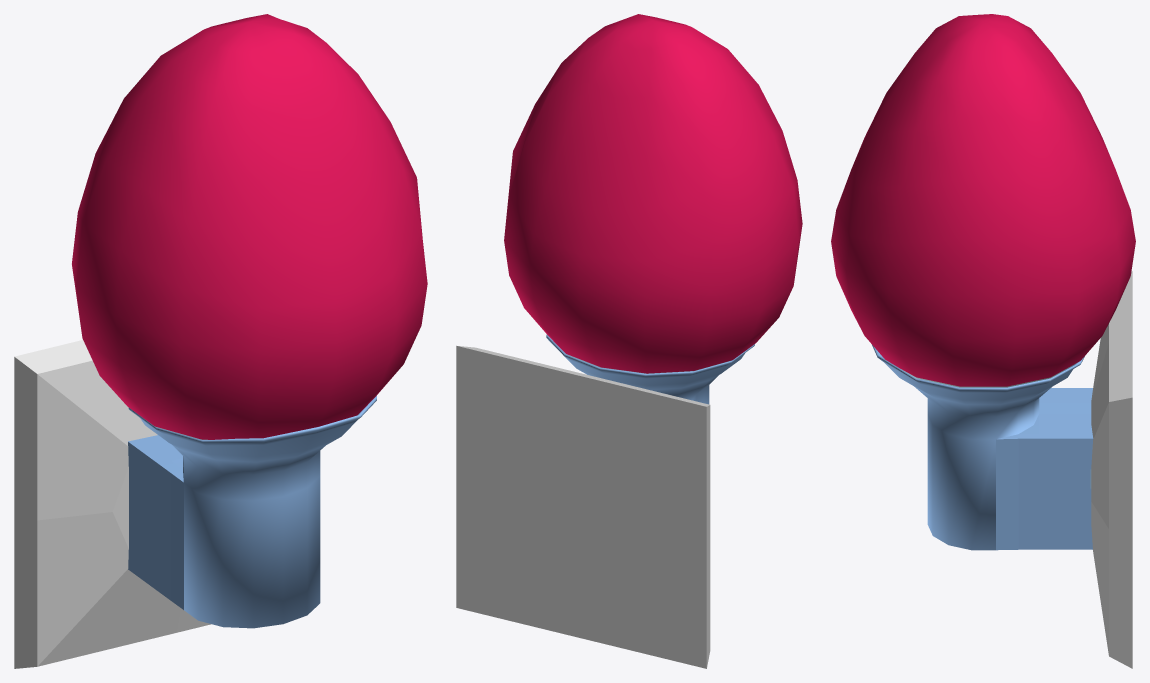
File: veilleuse_03.fbx
3 views of the same model, side by side, from view 1: azimuth 30°, elevation 25°; view 2: azimuth 150°, elevation 25°; view 3: azimuth 270°, elevation 25° (orthographic). The views are drawn at different scales.
Parts seen in each view (by area): view 1: Sphere, Emplacement; view 2: Sphere, Emplacement; view 3: Sphere, Emplacement.
Part boxes in pixels (bbox=[...]): Sphere: bbox=[72, 14, 427, 628]; Emplacement: bbox=[14, 340, 211, 668]; Sphere: bbox=[504, 14, 802, 404]; Emplacement: bbox=[456, 345, 710, 668]; Sphere: bbox=[831, 14, 1135, 550]; Emplacement: bbox=[1091, 271, 1132, 668].
Bounding box in the file's own units: 206 × 431 × 204.
